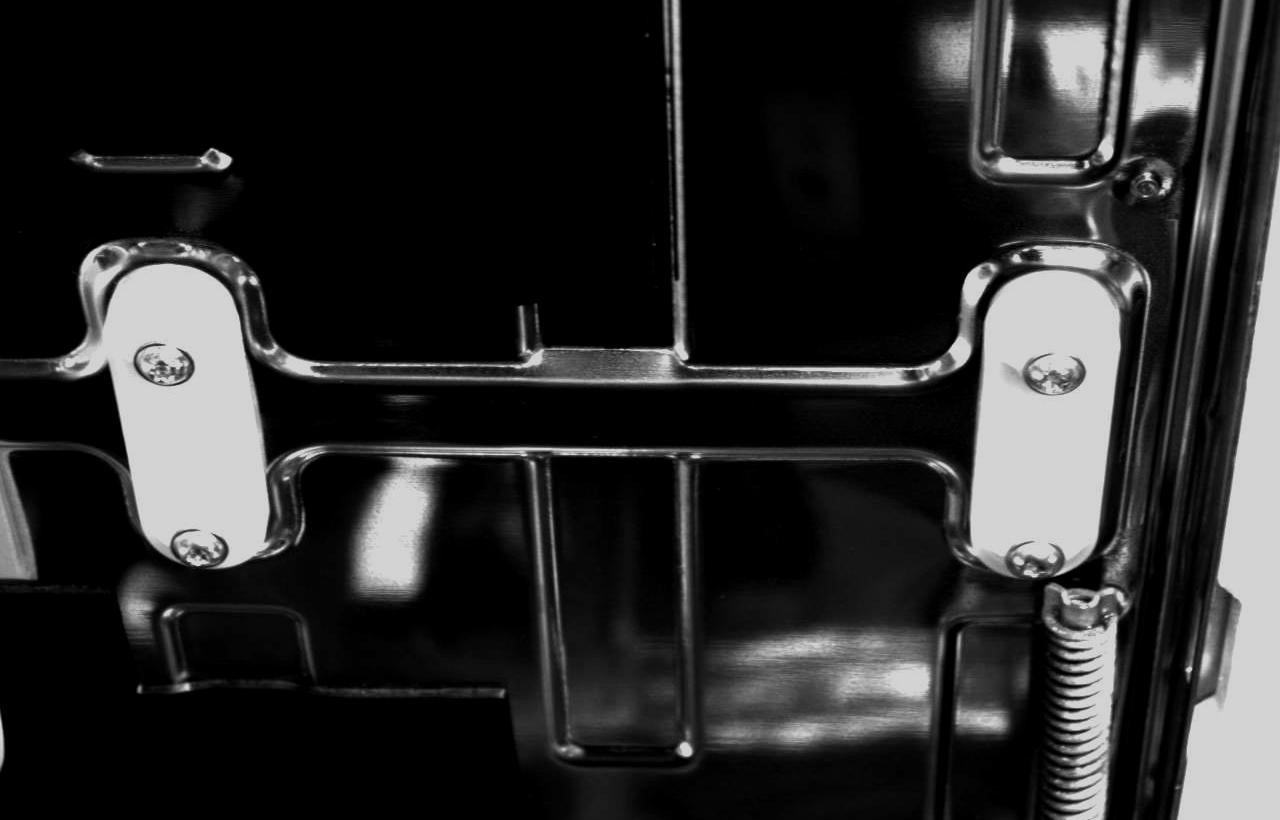vida-ok: (117, 329, 204, 407), (1006, 341, 1094, 413), (160, 511, 241, 575), (1000, 533, 1075, 592)
